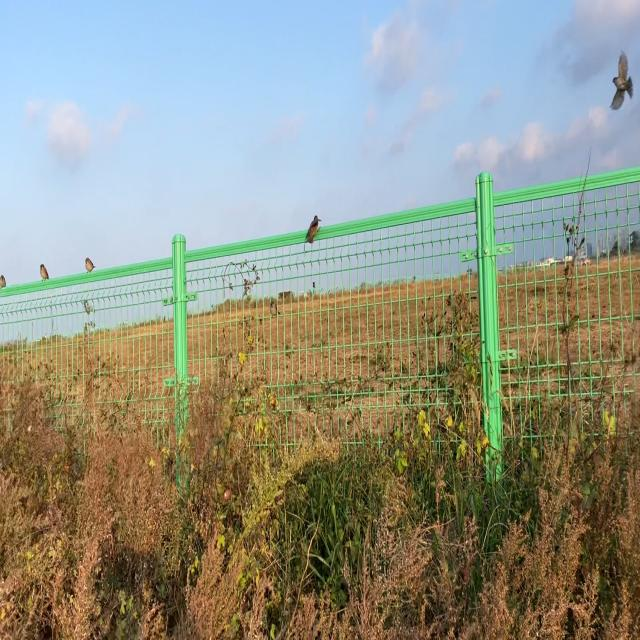bird: (608, 51, 634, 110), (304, 212, 322, 243), (40, 264, 50, 283), (85, 258, 96, 272), (0, 275, 7, 290)
